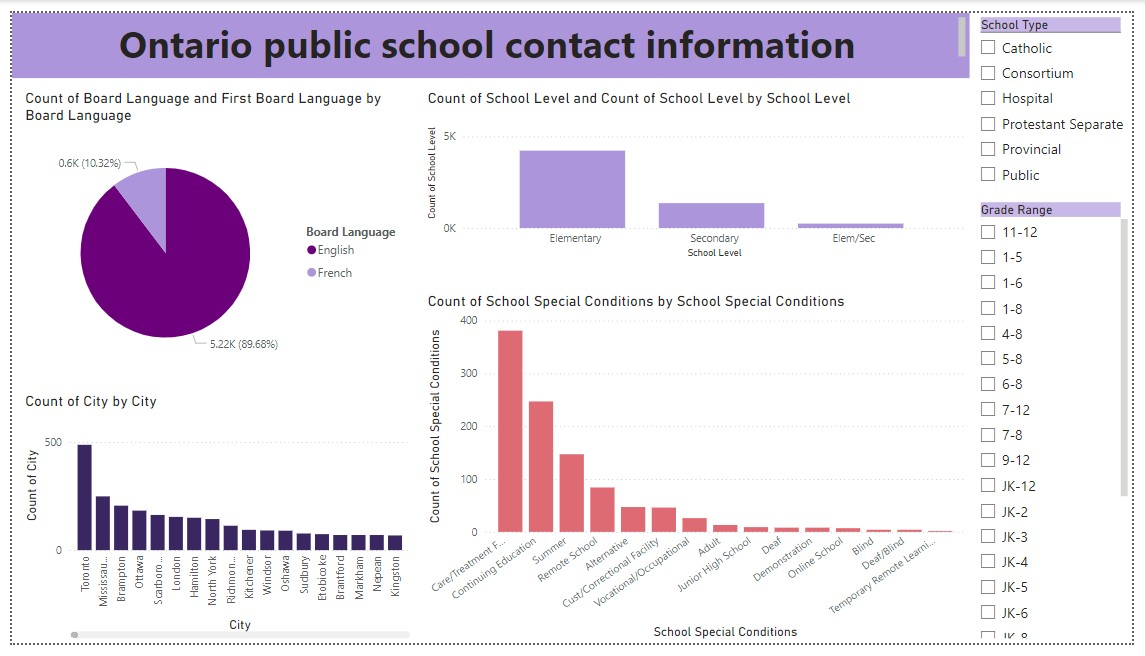

What the dashboard file says about the page in this screenshot:
{"tool":"powerbi","page":{"name":"Page 1","canvas":[1280,720],"ordinal":0},"visuals":[{"type":"pieChart","fields":{"Category":["Assi4.Board Language"],"Y":["CountNonNull(Assi4.Board Language)"]},"box":[10,87.1,450,335.7],"z":0},{"type":"clusteredColumnChart","fields":{"Category":["Assi4.City"],"Y":["CountNonNull(Assi4.City)"]},"box":[10,433,450,287],"z":1},{"type":"clusteredColumnChart","fields":{"Category":["Assi4.School Level"],"Y":["CountNonNull(Assi4.School Level)"]},"box":[470,87.1,624.3,198.6],"z":2},{"type":"lineClusteredColumnComboChart","fields":{"Category":["Assi4.School Special Conditions"],"Y":["CountNonNull(Assi4.School Special Conditions)"]},"box":[470,318.6,624.3,401.4],"z":3},{"type":"slicer","fields":{"Values":["Assi4.School Type"]},"box":[1094.3,0,185.7,285.7],"z":4},{"type":"slicer","fields":{"Values":["Assi4.Grade Range"]},"box":[1094.3,211.4,185.7,508.6],"z":5},{"type":"textbox","box":[0,0,1094.3,74.3],"z":6}]}

Visuals, with their boxes in screenshot pixels (x1, y1, x2, y2), scaled from the page's 1280x720 canvas onto the 1145x656 screenshot:
pieChart - Assi4.Board Language x CountNonNull(Assi4.Board Language): {"left": 9, "top": 79, "right": 411, "bottom": 385}
clusteredColumnChart - Assi4.City x CountNonNull(Assi4.City): {"left": 9, "top": 395, "right": 411, "bottom": 655}
clusteredColumnChart - Assi4.School Level x CountNonNull(Assi4.School Level): {"left": 420, "top": 79, "right": 979, "bottom": 260}
lineClusteredColumnComboChart - Assi4.School Special Conditions x CountNonNull(Assi4.School Special Conditions): {"left": 420, "top": 290, "right": 979, "bottom": 655}
slicer - Assi4.School Type: {"left": 979, "top": 0, "right": 1144, "bottom": 260}
slicer - Assi4.Grade Range: {"left": 979, "top": 193, "right": 1144, "bottom": 655}
textbox: {"left": 0, "top": 0, "right": 979, "bottom": 68}
